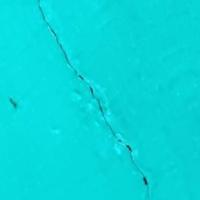crack: (36, 3, 149, 180)
